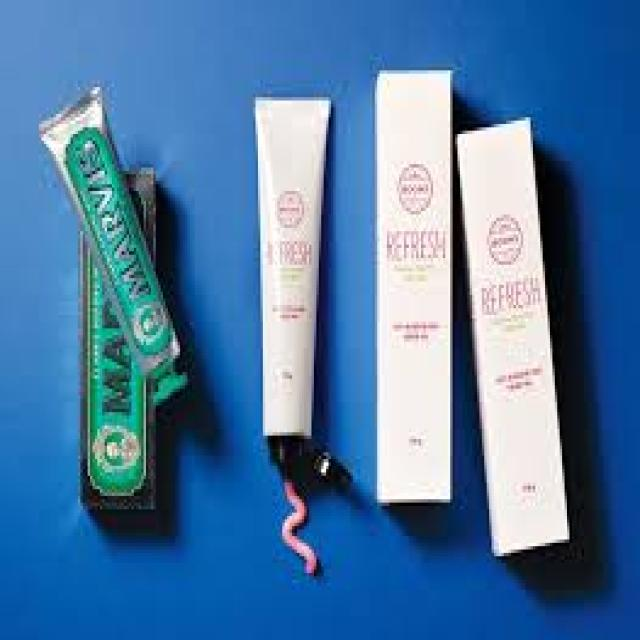toothpaste: (29, 68, 202, 394), (244, 89, 329, 491)
